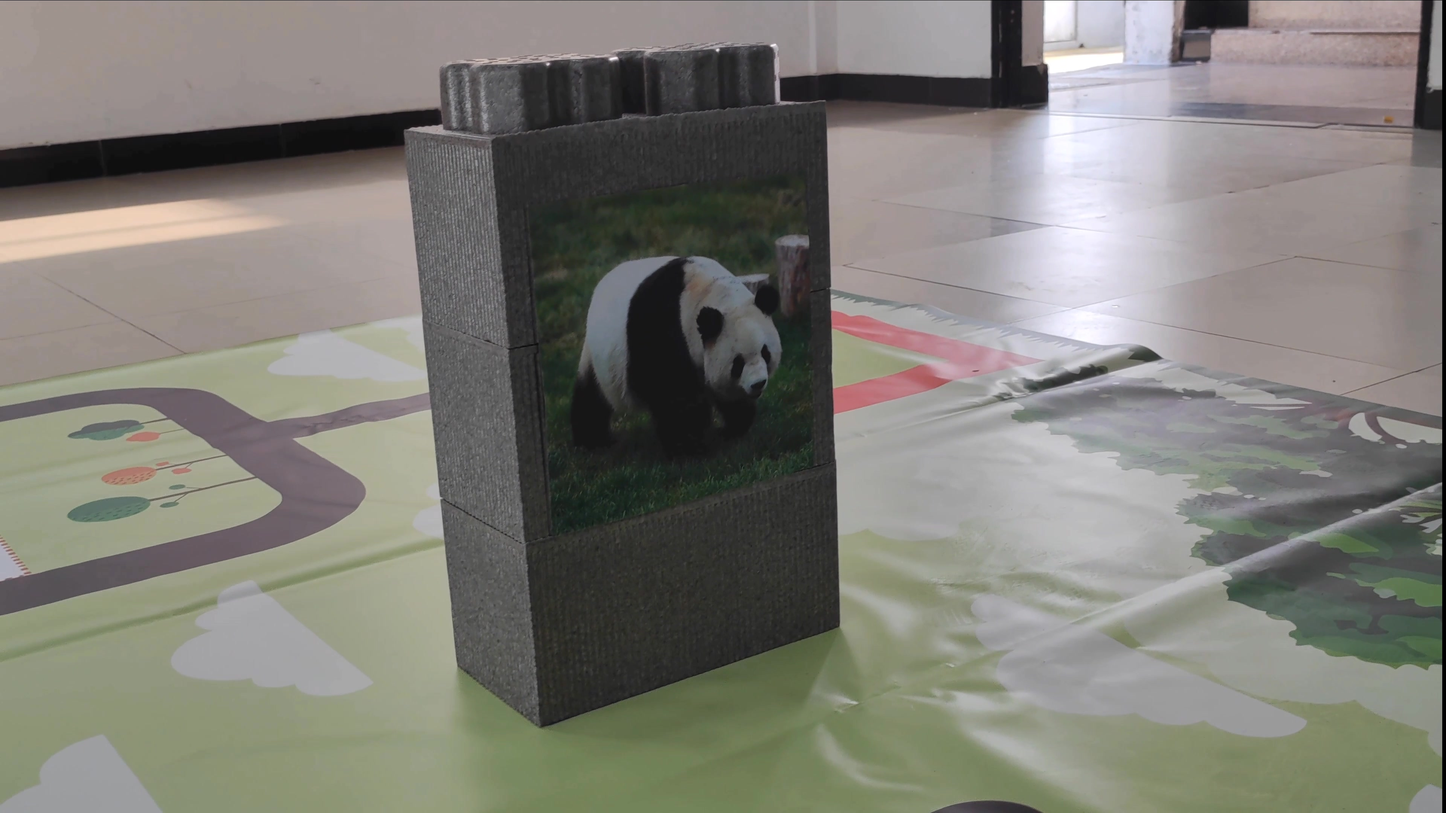panda: (551, 220, 812, 455)
